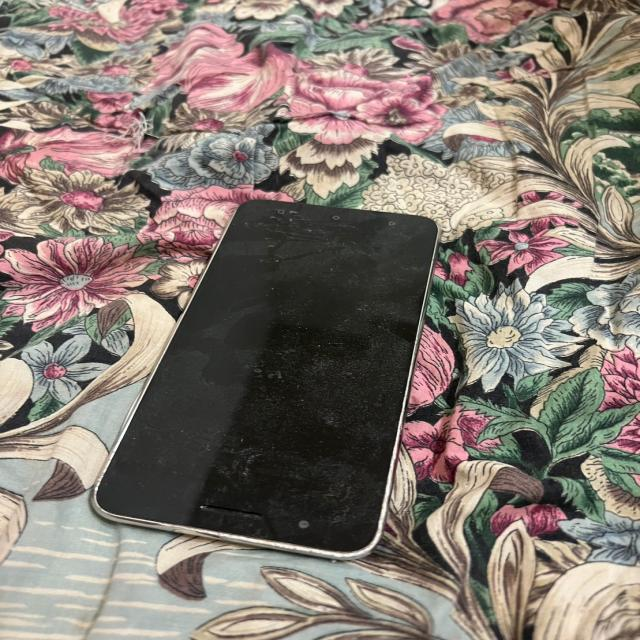Smartphone: (93, 201, 438, 560)
